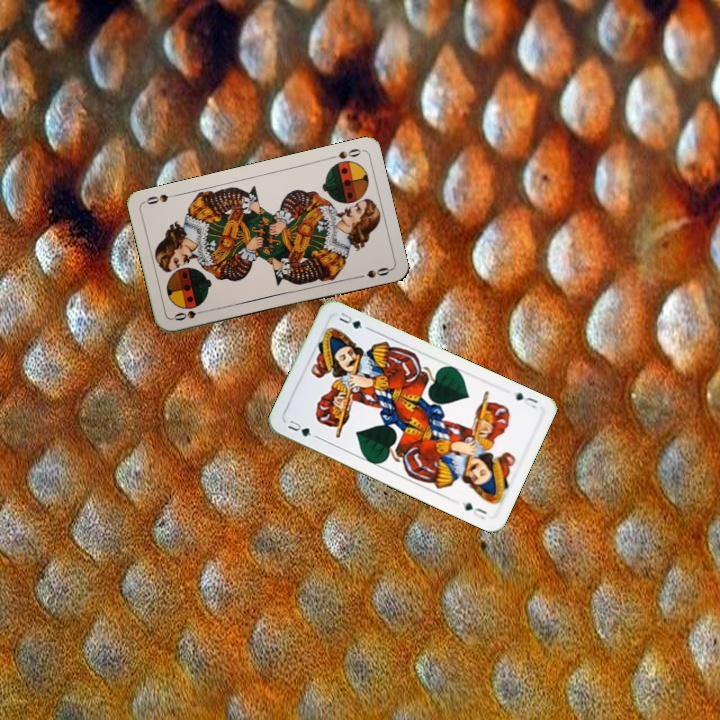GU: (283, 416, 314, 439), (512, 388, 540, 411)
SO: (325, 144, 364, 162), (169, 306, 209, 323)
